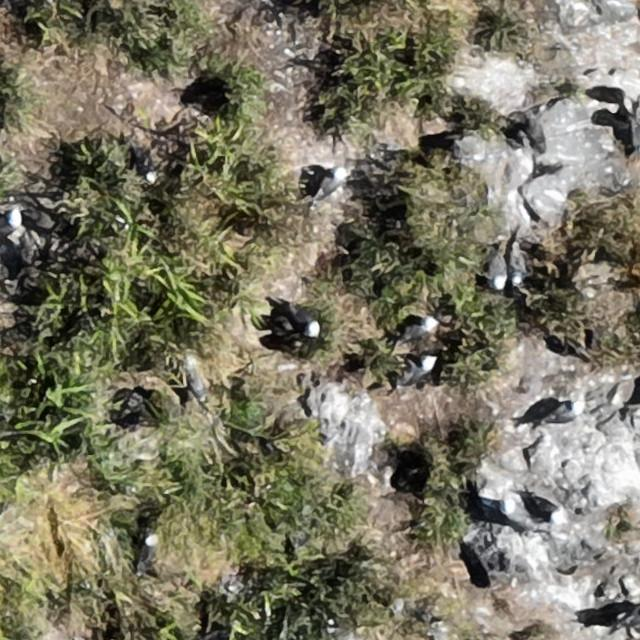umineko: (526, 493, 570, 525), (538, 398, 583, 427), (312, 168, 348, 201), (499, 497, 535, 530), (399, 316, 436, 341), (294, 309, 319, 336), (490, 254, 509, 289), (138, 534, 156, 569), (407, 356, 435, 378), (510, 249, 526, 286), (190, 368, 208, 400), (2, 210, 20, 234)
